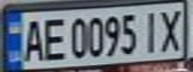0: (66, 13, 87, 60), (87, 14, 106, 58)
5: (118, 10, 142, 56)
9: (103, 11, 124, 57)
A: (18, 16, 48, 63)
E: (39, 15, 69, 62)
I: (139, 7, 163, 54)
X: (157, 5, 187, 53)
